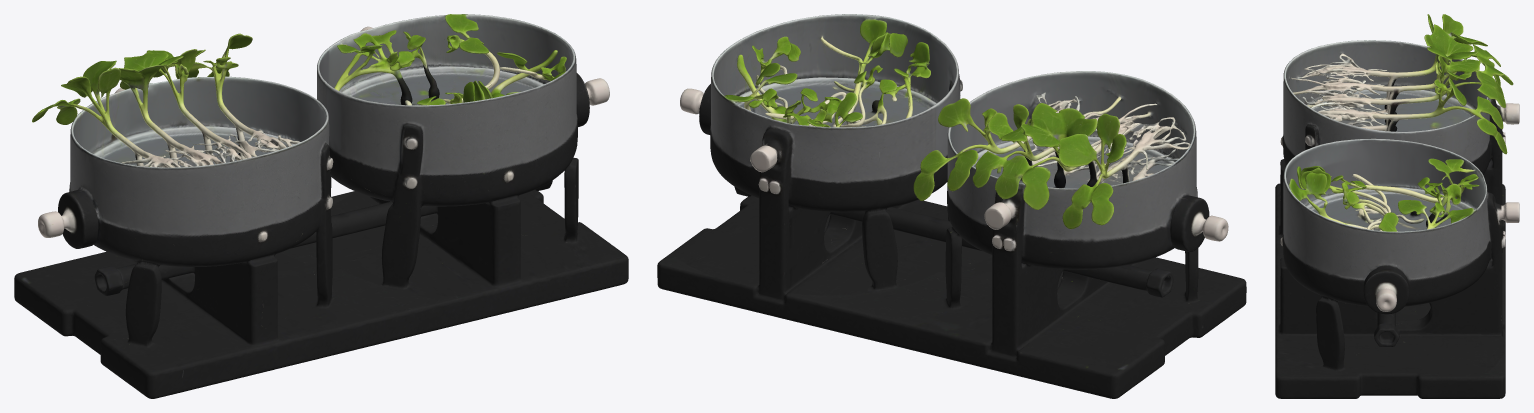
Rendered from seed_7day.glb.
The picture shows the model from 3 angles, left to right: view 1: azimuth 30°, elevation 25°; view 2: azimuth 150°, elevation 25°; view 3: azimuth 270°, elevation 25°; orthographic projection. The views are drawn at different scales.
Bounding box in the file's own units: 1.9 × 0.8146 × 0.8578.
1 material, 1 textured.
